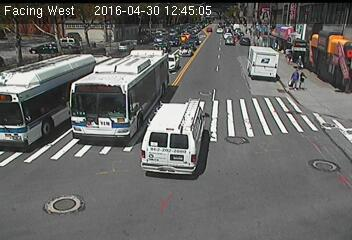neg: (223, 139, 254, 179), (296, 149, 323, 184), (89, 86, 115, 121), (279, 108, 303, 139), (36, 53, 58, 83), (148, 106, 165, 129), (36, 137, 52, 158), (196, 159, 212, 180), (184, 13, 199, 33), (22, 93, 36, 112), (245, 80, 259, 98), (244, 107, 257, 125), (184, 111, 197, 128), (96, 201, 109, 218), (125, 156, 138, 172), (156, 161, 168, 177), (250, 55, 262, 71), (72, 156, 83, 171), (49, 19, 59, 33), (178, 52, 187, 64), (211, 47, 220, 59), (77, 33, 86, 45), (225, 31, 234, 42), (220, 94, 228, 105)
pos: (293, 69, 311, 94), (288, 68, 303, 88), (284, 49, 298, 67), (295, 51, 306, 66)
